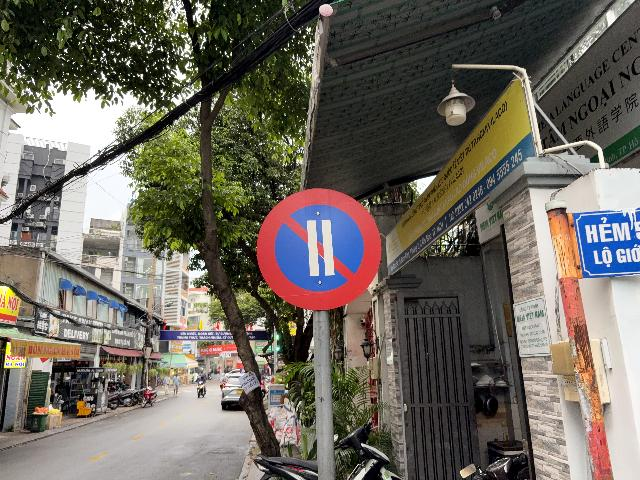cam-do-xe-ngay-chan: (256, 186, 382, 311)
